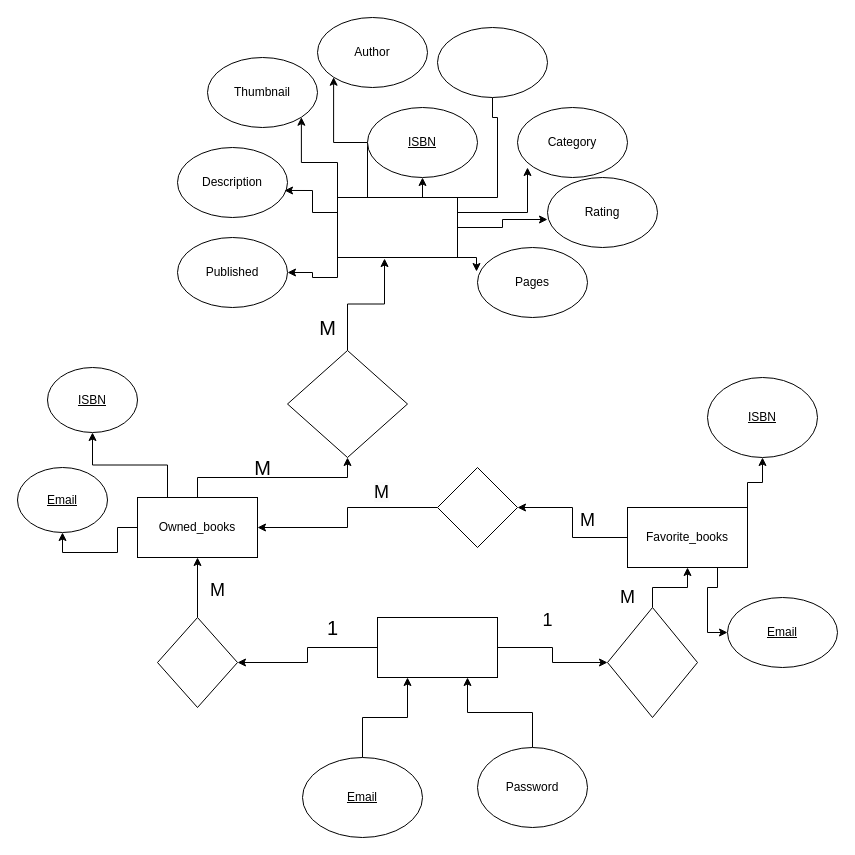
Image size: 855x855. Some labels were removed from this diagram. Each missing label, with the centre of its shape:
Books: point 397,227
Comes From: point 347,404
Favorites/ Unfavorites: point 652,662
Has: point 197,662
Is Part of: point 477,507
Title: point 492,62
User: point 437,647
